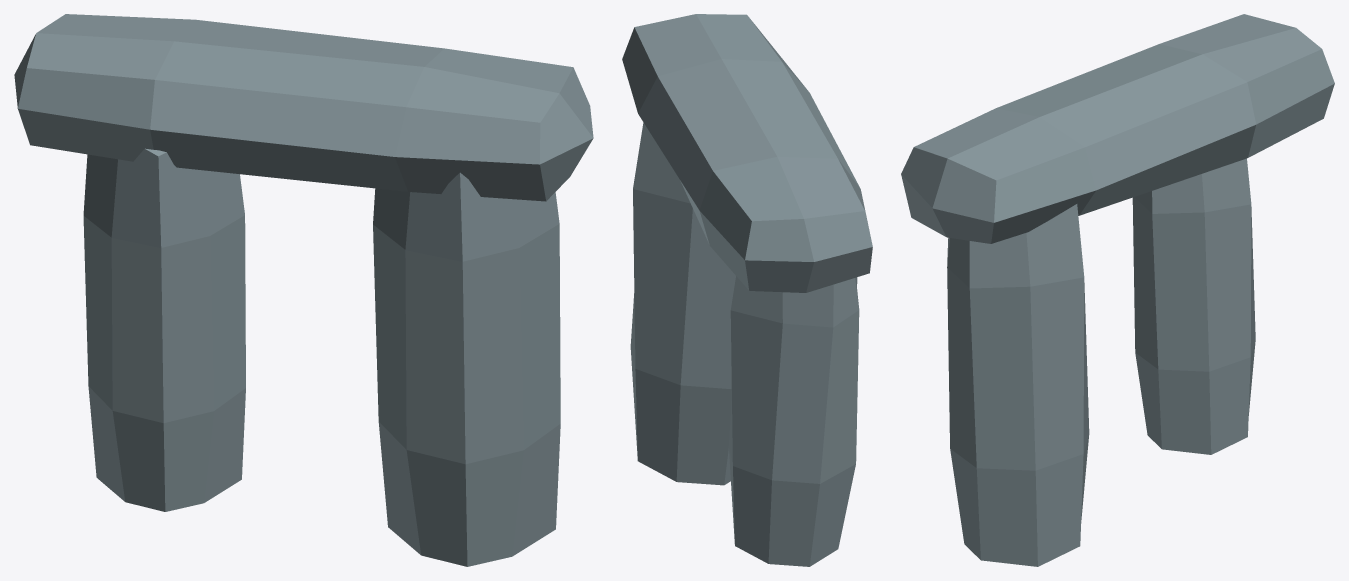
Rendered from Stonehenge_P2.obj.
3 views of the same model, side by side, from view 1: azimuth 30°, elevation 25°; view 2: azimuth 150°, elevation 25°; view 3: azimuth 270°, elevation 25° (orthographic). The views are drawn at different scales.
Parts seen in each view (by area): view 1: Cube.017_Cube.018, Cube.008_Cube.022, Cube.016_Cube.017; view 2: Cube.017_Cube.018, Cube.016_Cube.017, Cube.008_Cube.022; view 3: Cube.017_Cube.018, Cube.008_Cube.022, Cube.016_Cube.017.
Part boxes in pixels (x1,y1,x2,y2): Cube.017_Cube.018: (14,14,593,201); Cube.008_Cube.022: (373,172,560,566); Cube.016_Cube.017: (83,148,245,511); Cube.017_Cube.018: (622,14,872,292); Cube.016_Cube.017: (728,276,859,566); Cube.008_Cube.022: (630,122,735,485); Cube.017_Cube.018: (901,14,1334,243); Cube.008_Cube.022: (947,204,1089,566); Cube.016_Cube.017: (1132,158,1255,454).
Size of the model in its own units: 43.1 by 47.28 by 43.39.
Materials: 1 (1 with a texture image).
